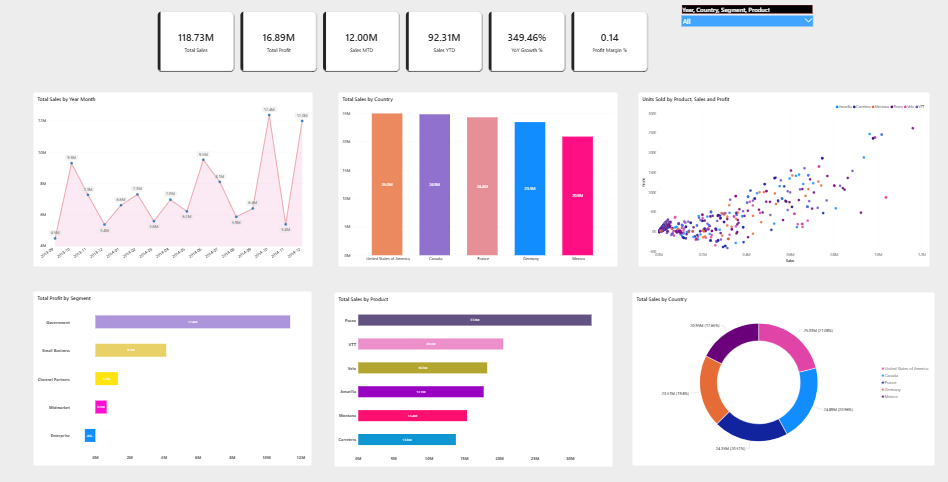

This screenshot's page, from the dashboard's own definition file:
{"tool":"powerbi","page":{"name":"Page 1","canvas":[3840,2160],"ordinal":0},"visuals":[{"type":"cardVisual","fields":{"Data":["financials.Total Sales","financials.Total Profit","Date Table.Sales MTD","Date Table.Sales YTD","Date Table.YoY Growth %","financials.Profit Margin %"]},"box":[628.9,30.4,2012.5,290.6],"z":0},{"type":"lineChart","fields":{"Category":["Date Table.Year Month"],"Y":["financials.Total Sales"]},"box":[156,380,1120,700],"z":1},{"type":"clusteredColumnChart","fields":{"Category":["financials.Country"],"Y":["financials.Total Sales"]},"box":[1377.5,380,1120,700],"z":2},{"type":"barChart","fields":{"Category":["financials.Segment"],"Y":["financials.Total Profit"]},"box":[156,1176,1116,700],"z":3},{"type":"barChart","fields":{"Category":["financials.Product"],"Y":["financials.Total Sales"]},"box":[1360,1180,1116,700],"z":4},{"type":"scatterChart","fields":{"Series":["financials.Product"],"Size":["CountNonNull(financials.Units Sold)"],"X":["financials. Sales"],"Y":["financials.Profit"]},"box":[2576,380,1168,700],"z":5},{"type":"slicer","fields":{"Values":["Date Table.Year","financials.Country","financials.Segment","financials.Product"]},"box":[2742.9,32.3,537.8,306.6],"z":6},{"type":"donutChart","fields":{"Category":["financials.Country","financials.Product","financials.Segment"],"Y":["financials.Total Sales"]},"box":[2552,1180,1212,696],"z":7}]}

Visuals, with their boxes on the page's 3840x2160 design canvas (x1, y1, x2, y2). These are canvas units, not pixel positions in the 948x482 screenshot, which may show the page scaled, cropped or inside an application window:
cardVisual - financials.Total Sales x financials.Total Profit: (left=629, top=30, right=2641, bottom=321)
lineChart - Date Table.Year Month x financials.Total Sales: (left=156, top=380, right=1276, bottom=1080)
clusteredColumnChart - financials.Country x financials.Total Sales: (left=1378, top=380, right=2498, bottom=1080)
barChart - financials.Segment x financials.Total Profit: (left=156, top=1176, right=1272, bottom=1876)
barChart - financials.Product x financials.Total Sales: (left=1360, top=1180, right=2476, bottom=1880)
scatterChart - financials.Product x CountNonNull(financials.Units Sold): (left=2576, top=380, right=3744, bottom=1080)
slicer - Date Table.Year x financials.Country: (left=2743, top=32, right=3281, bottom=339)
donutChart - financials.Country x financials.Product: (left=2552, top=1180, right=3764, bottom=1876)
